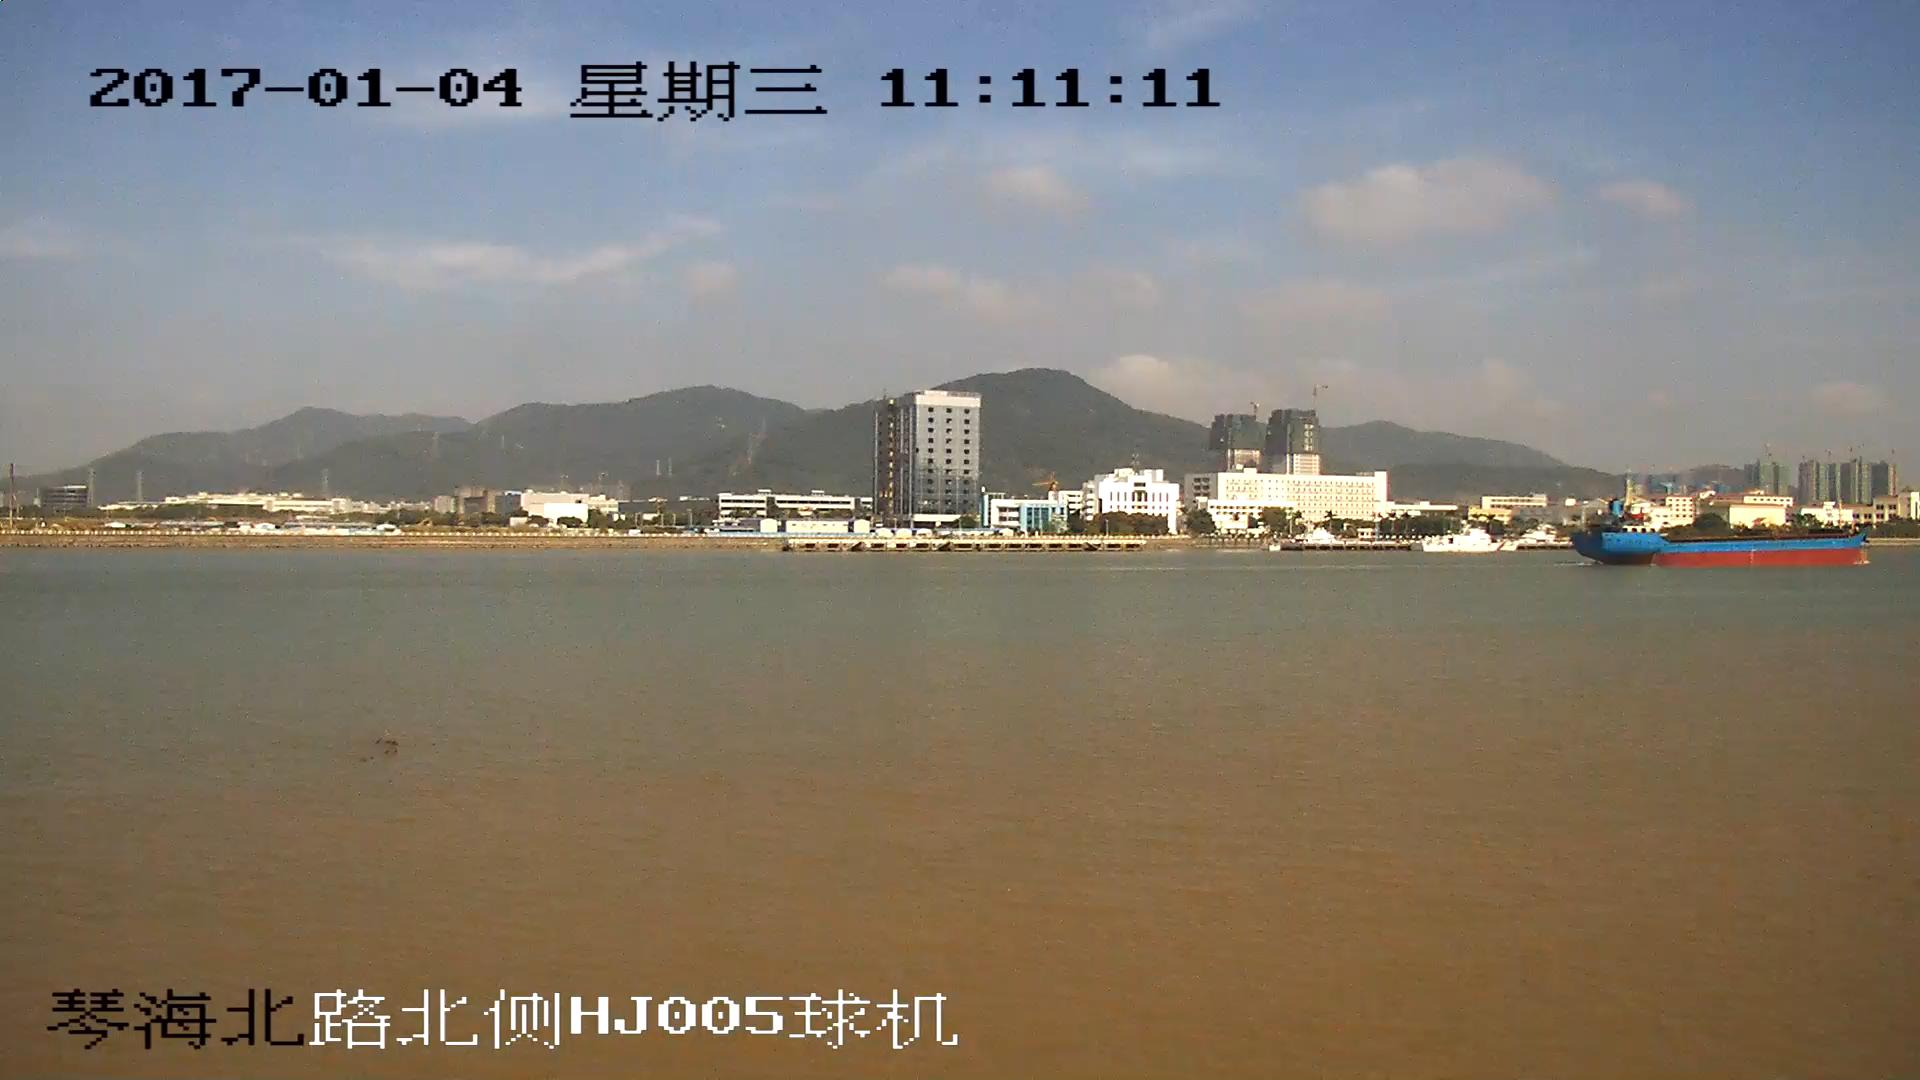general cargo ship: (1579, 479, 1870, 567)
